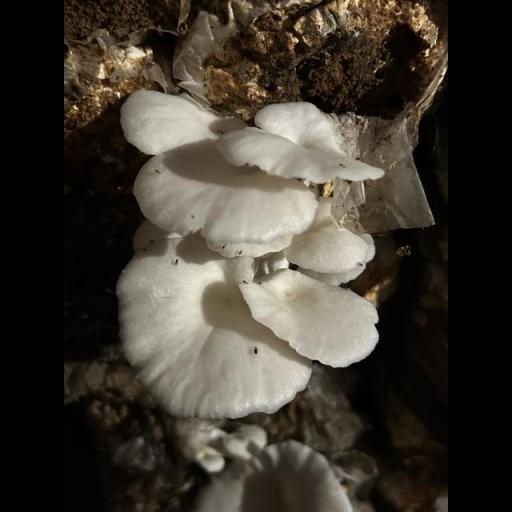White Oyster Mushroom: (111, 78, 385, 476)
